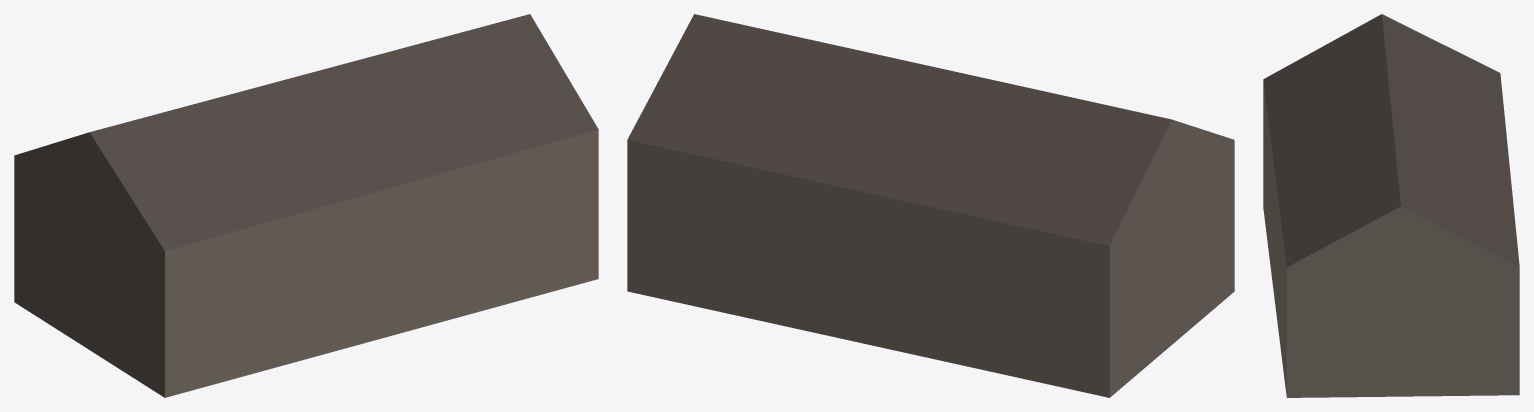
3 views of the same model, side by side, from view 1: azimuth 30°, elevation 25°; view 2: azimuth 150°, elevation 25°; view 3: azimuth 270°, elevation 25° (orthographic). The views are drawn at different scales.
Visible parts, largest first — view 1: HP-w1512911302; view 2: HP-w1512911302; view 3: HP-w1512911302.
Boxes of the visible parts, x1,y1,x2,y2 form: HP-w1512911302: (14,14,598,397); HP-w1512911302: (627,14,1234,397); HP-w1512911302: (1263,14,1519,397).
Bounding box in the file's own units: 19.78 × 8.91 × 10.89.
